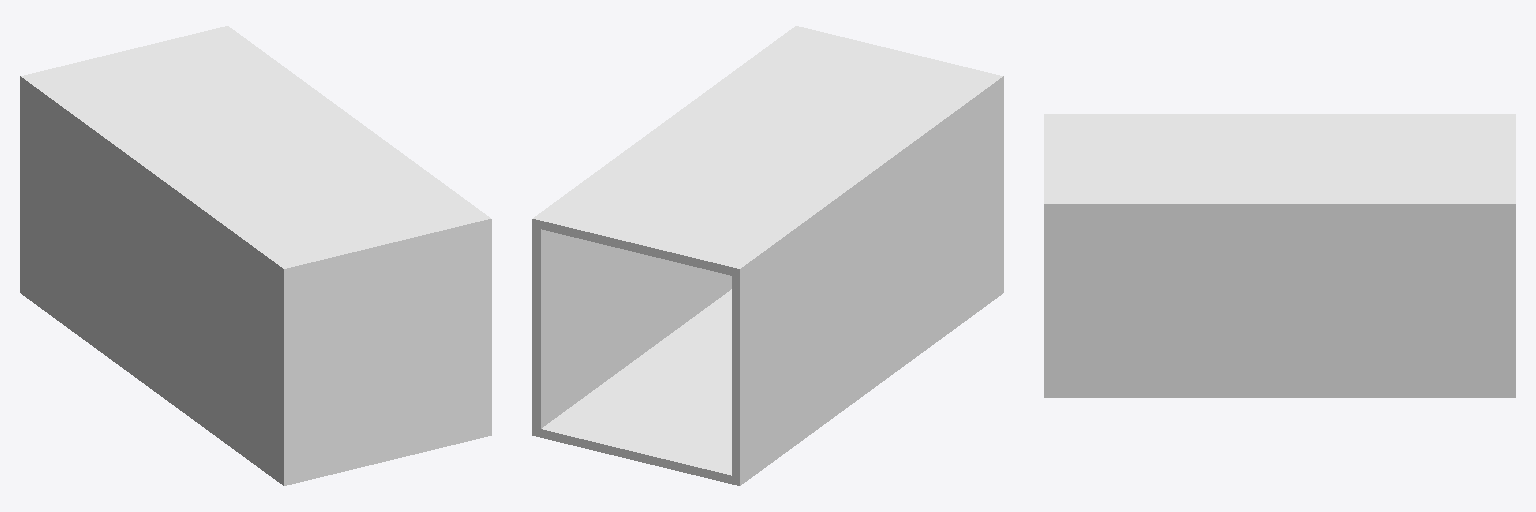
The robot description file, URDF, robot "cup3":
<?xml version="1.0" encoding="utf-8"?>
<!-- This URDF was automatically created by SolidWorks to URDF Exporter! Originally created by [author] ([email redacted]) 
     Commit Version: 1.6.0-1-g15f4949  Build Version: 1.6.7594.29634
     For more information, please see http://wiki.ros.org/sw_urdf_exporter -->
<robot
  name="cup3">
  <link
    name="base_link">
    <inertial>
      <origin
        xyz="4.1217E-18 0.042982 -5.1149E-19"
        rpy="0 0 0" />
      <mass
        value="0.1035" />
      <inertia
        ixx="0.00010674"
        ixy="-5.0169E-21"
        ixz="3.2439E-22"
        iyy="4.5186E-05"
        iyz="0"
        izz="0.00010674" />
    </inertial>
    <visual>
      <origin
        xyz="0 0 0"
        rpy="0 0 0" />
      <geometry>
        <!--mesh
          filename="package://cup3/meshes/base_link.STL" /-->
          <box size="0.05 0.01 0.05"/>
      </geometry>
      <material
        name="">
        <color
          rgba="1 1 1 1" />
      </material>
    </visual>

    <visual>
      <origin
        xyz="0.024 0.055 0"
        rpy="0 0 0" />
      <geometry>
          <box size="0.002 0.1 0.05"/>
      </geometry>
      <material
        name="">
        <color
          rgba="1 1 1 1" />
      </material>
    </visual>

     <visual>
          <origin
            xyz="-0.024 0.055 0"
            rpy="0 0 0" />
          <geometry>
              <box size="0.002 0.1 0.05"/>
          </geometry>
          <material
            name="">
            <color
              rgba="1 1 1 1" />
          </material>
    </visual>

    <visual>
      <origin
        xyz="0 0.055 -0.024"
        rpy="0 0 0" />
      <geometry>
          <box size="0.046 0.1 0.002"/>
      </geometry>
      <material
        name="">
        <color
          rgba="1 1 1 1" />
      </material>
    </visual>

     <visual>
          <origin
            xyz="0 0.055 0.024"
            rpy="0 0 0" />
          <geometry>
              <box size="0.046 0.1 0.002"/>
          </geometry>
          <material
            name="">
            <color
              rgba="1 1 1 1" />
          </material>
    </visual>


    <!--collision-->

     <collision>
          <origin
            xyz="0 0 0"
            rpy="0 0 0" />
          <geometry>
            <!--mesh
              filename="package://cup3/meshes/base_link.STL" /-->
              <box size="0.05 0.005 0.05"/>
          </geometry>
    </collision>

    <collision>
      <origin
        xyz="0.024 0.055 0"
        rpy="0 0 0" />
      <geometry>
          <box size="0.002 0.1 0.05"/>
      </geometry>
      <material
        name="">
        <color
          rgba="1 1 1 1" />
      </material>
    </collision>

     <collision>
          <origin
            xyz="-0.024 0.055 0"
            rpy="0 0 0" />
          <geometry>
              <box size="0.002 0.1 0.05"/>
          </geometry>
          <material
            name="">
            <color
              rgba="1 1 1 1" />
          </material>
    </collision>

     <collision>
      <origin
        xyz="0 0.055 -0.024"
        rpy="0 0 0" />
      <geometry>
          <box size="0.046 0.1 0.002"/>
      </geometry>
      <material
        name="">
        <color
          rgba="1 1 1 1" />
      </material>
    </collision>

     <collision>
          <origin
            xyz="0 0.055 0.024"
            rpy="0 0 0" />
          <geometry>
              <box size="0.046 0.1 0.002"/>
          </geometry>
          <material
            name="">
            <color
              rgba="1 1 1 1" />
          </material>
    </collision>

  </link>
</robot>

--- What the picture shows (computed from the rendered views, not written in the file) ---
3 views of the same robot in one strip: view 1: azimuth 30°, elevation 25°; view 2: azimuth 150°, elevation 25°; view 3: azimuth 270°, elevation 25° (orthographic).
Model cup3 with 1 links and 0 joints (none), rooted at base_link, posed all joints at 0.
Links seen in each view (by area): view 1: base_link; view 2: base_link; view 3: base_link.
Boxes of the visible links, x1,y1,x2,y2 form: base_link: [20, 26, 491, 485]; base_link: [532, 26, 1003, 485]; base_link: [1044, 114, 1515, 397].
Bounding box of the posed robot: 0.05 × 0.11 × 0.05 m (x, y, z).
Geometry: primitives only (box / cylinder / sphere), no mesh files.
